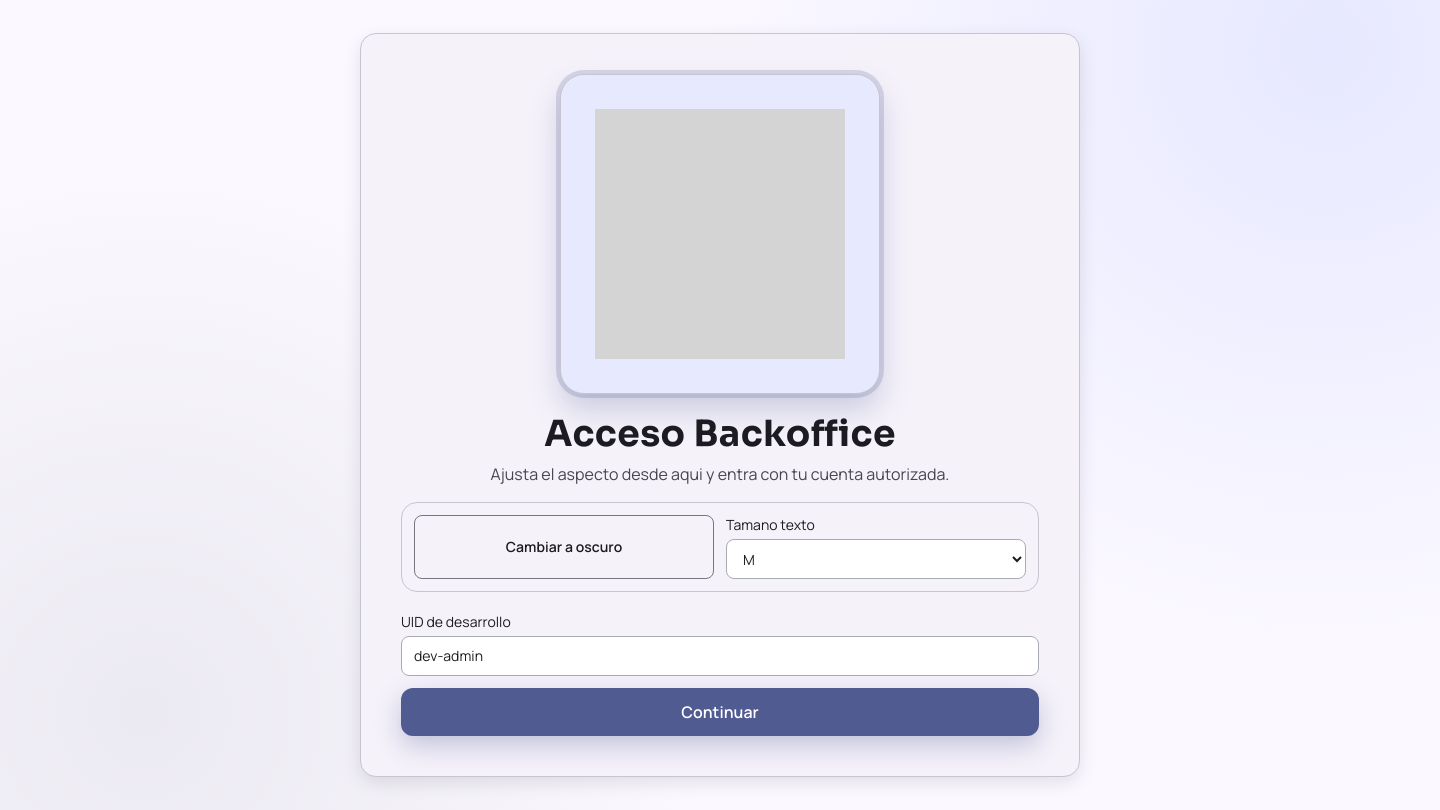
Scenario: LoginGate › shows the access error fallback for dev-mode bootstrap failures
Replace the text in the field showing "dev-admin" with "dev-007": (720,656) [401,636,1039,676]
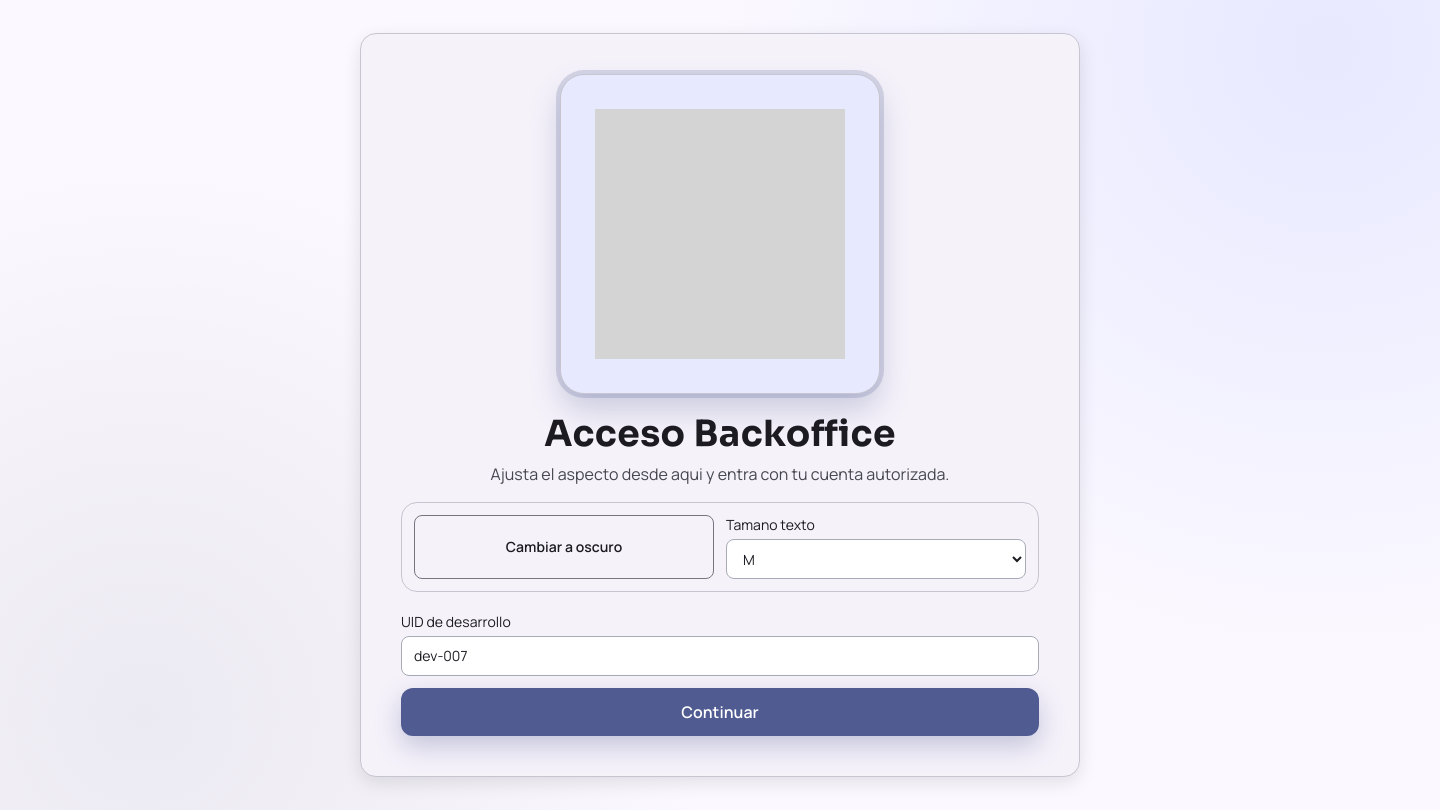
Click the button "Continuar": (720,712) [401,688,1039,736]
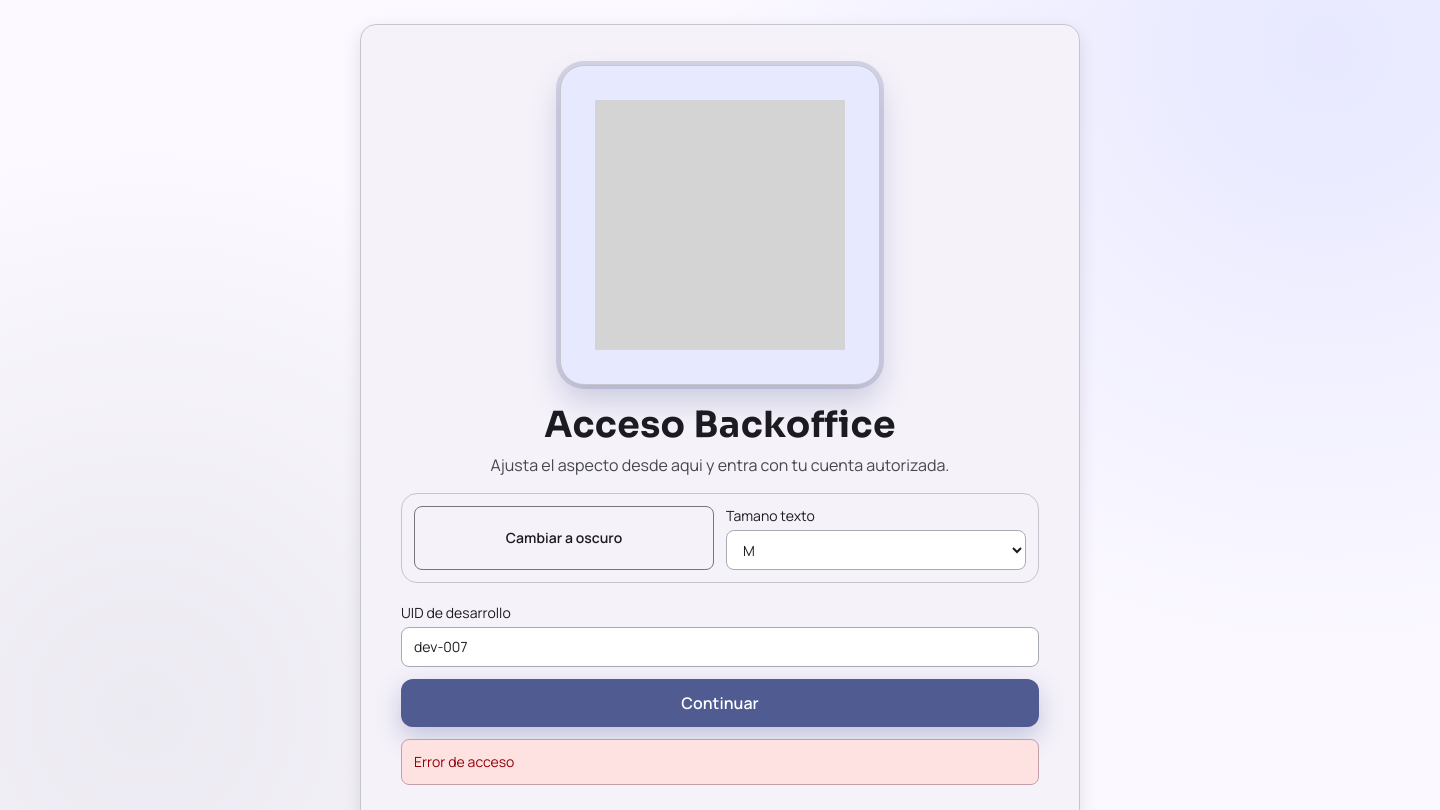
Check: the text "Error de acceso" is shown, box [401,739,1039,785]
